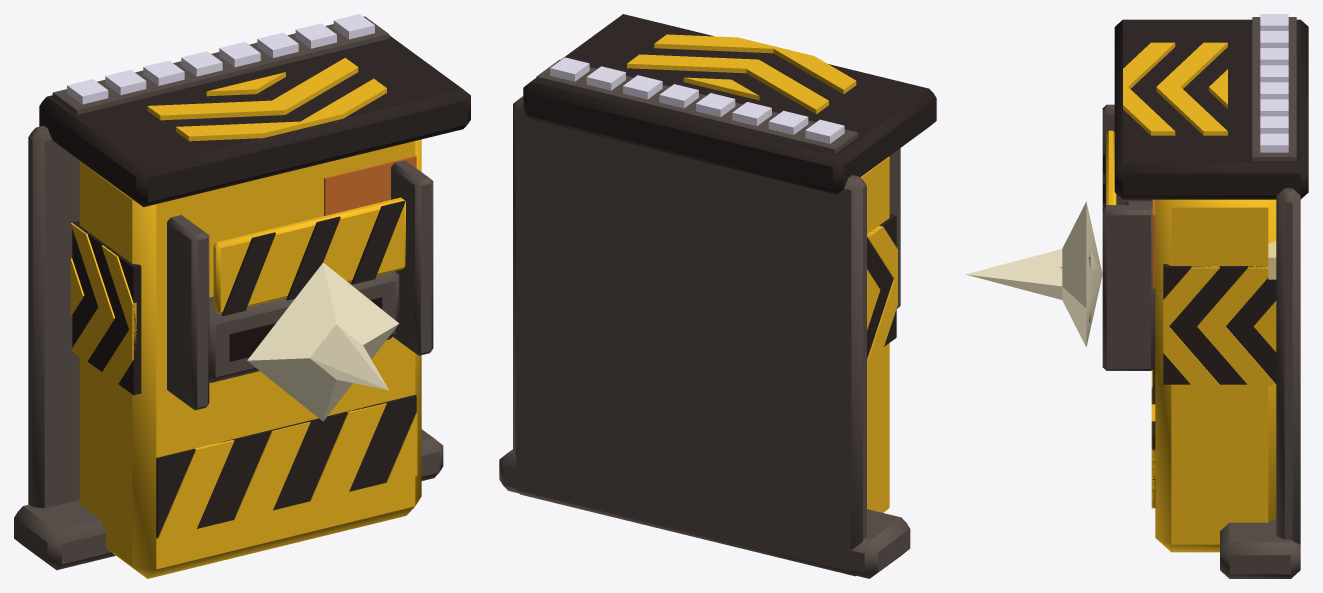
File: trap_dart__upper.glb
The picture shows the model from 3 angles, left to right: view 1: azimuth 30°, elevation 25°; view 2: azimuth 150°, elevation 25°; view 3: azimuth 270°, elevation 25°; orthographic projection. The views are drawn at different scales.
Visible parts, largest first — view 1: Body, Shutter, Flash, Muzzle, Pip_03, Pip_04, Pip_01, Pip_05, Pip_06, Pip_07, Pip_08, Pip_02; view 2: Body, Pip_02, Pip_01, Pip_03, Pip_04, Pip_05, Pip_08, Pip_06, Pip_07; view 3: Body, Flash, Shutter, Pip_08, Pip_03, Pip_04, Pip_05, Pip_06, Pip_07, Pip_01, Pip_02.
Part boxes in pixels (x1=…): Body: x1=14, y1=16, x2=470, y2=578; Shutter: x1=213, y1=197, x2=405, y2=316; Flash: x1=247, y1=262, x2=398, y2=421; Muzzle: x1=209, y1=271, x2=399, y2=382; Pip_03: x1=143, y1=60, x2=184, y2=85; Pip_04: x1=181, y1=51, x2=222, y2=76; Pip_01: x1=67, y1=79, x2=108, y2=104; Pip_05: x1=219, y1=42, x2=260, y2=67; Pip_06: x1=257, y1=32, x2=298, y2=57; Pip_07: x1=295, y1=23, x2=336, y2=48; Pip_08: x1=333, y1=14, x2=374, y2=39; Pip_02: x1=105, y1=70, x2=146, y2=95; Body: x1=499, y1=14, x2=936, y2=578; Pip_02: x1=768, y1=110, x2=808, y2=134; Pip_01: x1=805, y1=119, x2=844, y2=143; Pip_03: x1=732, y1=102, x2=771, y2=125; Pip_04: x1=696, y1=93, x2=735, y2=117; Pip_05: x1=659, y1=84, x2=698, y2=108; Pip_08: x1=550, y1=57, x2=589, y2=81; Pip_06: x1=623, y1=75, x2=662, y2=99; Pip_07: x1=586, y1=66, x2=625, y2=90; Body: x1=1102, y1=17, x2=1308, y2=578; Flash: x1=965, y1=201, x2=1102, y2=347; Shutter: x1=1103, y1=130, x2=1116, y2=207; Pip_08: x1=1260, y1=133, x2=1288, y2=152; Pip_03: x1=1260, y1=48, x2=1288, y2=65; Pip_04: x1=1260, y1=65, x2=1288, y2=82; Pip_05: x1=1260, y1=82, x2=1288, y2=99; Pip_06: x1=1260, y1=99, x2=1288, y2=116; Pip_07: x1=1260, y1=116, x2=1288, y2=133; Pip_01: x1=1260, y1=14, x2=1288, y2=30; Pip_02: x1=1260, y1=31, x2=1288, y2=47.
Size of the model in its own units: 0.52 by 0.566 by 0.425.
